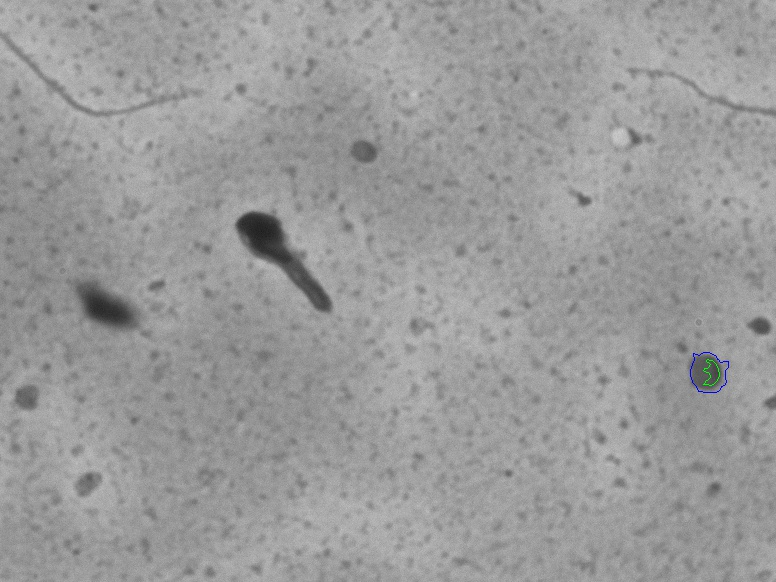Abnormal: (193, 173, 356, 346)
